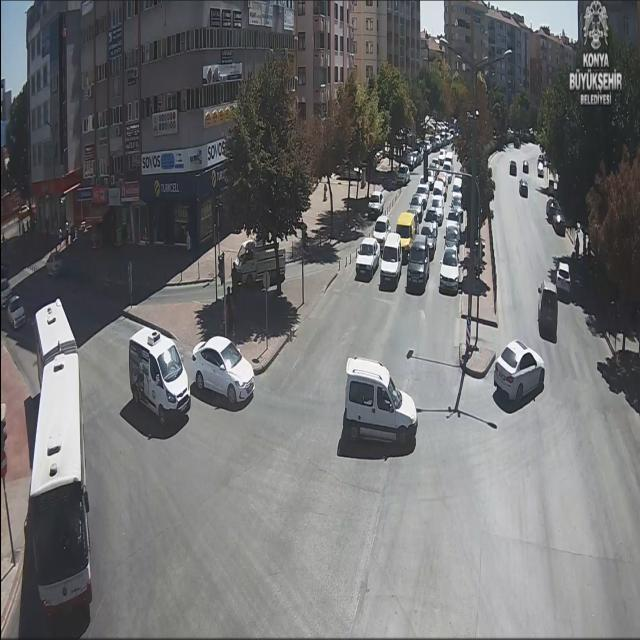Bus: (30, 299, 94, 629)
Car: (339, 358, 421, 444), (128, 326, 190, 424), (191, 336, 255, 404), (495, 339, 544, 402), (231, 241, 286, 291), (378, 232, 404, 286), (406, 240, 430, 290), (538, 284, 558, 339), (355, 238, 381, 279), (395, 212, 417, 258), (439, 254, 460, 295), (554, 259, 572, 300), (6, 295, 27, 329), (372, 215, 392, 245), (368, 188, 387, 218), (46, 251, 66, 277), (422, 224, 438, 256), (441, 244, 459, 270), (444, 221, 461, 248), (426, 188, 443, 214), (549, 211, 566, 236), (423, 206, 441, 229), (408, 198, 425, 222), (450, 203, 464, 226), (414, 182, 430, 202), (396, 164, 411, 185), (449, 194, 463, 213), (407, 151, 421, 169), (431, 182, 445, 200), (451, 181, 463, 201), (546, 198, 557, 218), (441, 168, 453, 186), (426, 173, 436, 191), (519, 178, 529, 196), (429, 159, 440, 173), (537, 160, 545, 178), (438, 150, 447, 164), (426, 136, 435, 150), (442, 160, 452, 172), (510, 160, 517, 176), (434, 136, 442, 150), (445, 151, 453, 164), (522, 160, 529, 173), (551, 180, 558, 192)
